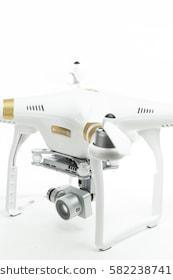drone: (0, 59, 173, 252)
